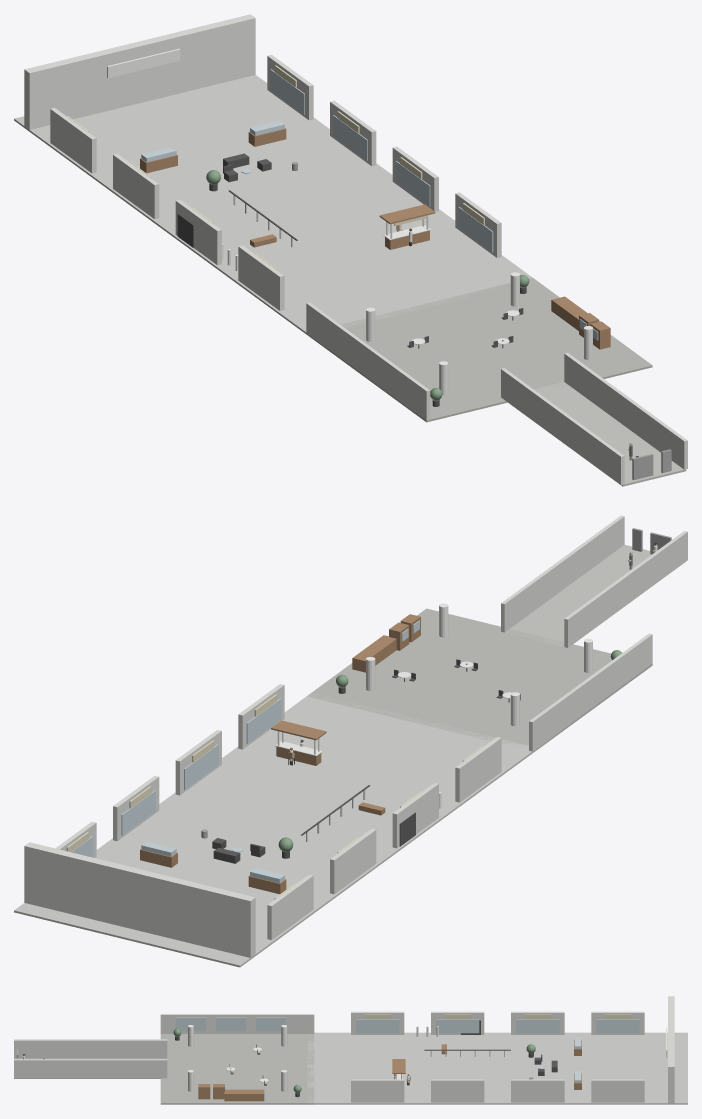
The picture shows the model from 3 angles, top to bottom: view 1: azimuth 30°, elevation 25°; view 2: azimuth 150°, elevation 25°; view 3: azimuth 270°, elevation 25°; orthographic projection. The views are drawn at different scales.
Parts seen in each view (by area): view 1: S03_floor, S02_floor, S03_anchor, S02_wallW, S01_wallW, S01_wallE, S01_floor, S03_store-1_0, S03_store-1_2, S03_store-1_3, S03_store-1_1, S03_anchorsign (+8 smaller); view 2: S03_floor, S02_floor, S03_anchor, S02_wallW, S01_wallW, S01_wallE, S01_floor, S03_store-1_0, S03_store-1_2, S03_store-1_3, S03_store-1_1, S03_store1_2 (+6 smaller); view 3: S03_floor, S02_floor, S01_wallE, S01_wallW, S02_wallW, S03_store1_0, S03_store1_1, S03_store1_2, S03_store1_3, S03_anchor, S03_glass-1_2, S03_glass-1_3 (+13 smaller).
Boxes of the visible parts, x1,y1,x2,y2 form: S03_floor: (14, 75, 532, 337); S02_floor: (311, 277, 652, 422); S03_anchor: (24, 14, 255, 129); S02_wallW: (306, 302, 430, 420); S01_wallW: (501, 368, 624, 485); S01_wallE: (564, 352, 687, 469); S01_floor: (516, 382, 686, 486); S03_store-1_0: (238, 245, 284, 310); S03_store-1_2: (113, 153, 159, 219); S03_store-1_3: (50, 107, 96, 173); S03_store-1_1: (175, 199, 221, 264); S03_anchorsign: (107, 48, 180, 78); S03_floor: (14, 693, 537, 967); S02_floor: (307, 608, 652, 749); S03_anchor: (24, 842, 255, 957); S02_wallW: (529, 633, 652, 751); S01_wallW: (564, 531, 687, 647); S01_wallE: (501, 515, 624, 632); S01_floor: (506, 545, 684, 646); S03_store-1_0: (455, 737, 501, 802); S03_store-1_2: (330, 828, 376, 894); S03_store-1_3: (267, 874, 313, 940); S03_store-1_1: (392, 783, 438, 848); S03_store1_2: (113, 775, 159, 841); S03_floor: (307, 1032, 687, 1104); S02_floor: (160, 1034, 314, 1104); S01_wallE: (14, 1059, 167, 1078); S01_wallW: (14, 1039, 167, 1058); S02_wallW: (160, 1014, 314, 1033); S03_store1_0: (351, 1079, 404, 1102); S03_store1_1: (431, 1079, 484, 1102); S03_store1_2: (511, 1079, 564, 1102); S03_store1_3: (591, 1079, 644, 1102); S03_anchor: (668, 996, 674, 1103); S03_glass-1_2: (516, 1019, 559, 1033); S03_glass-1_3: (596, 1019, 639, 1033).
Size of the model in its own units: 25 by 6.2 by 101.
